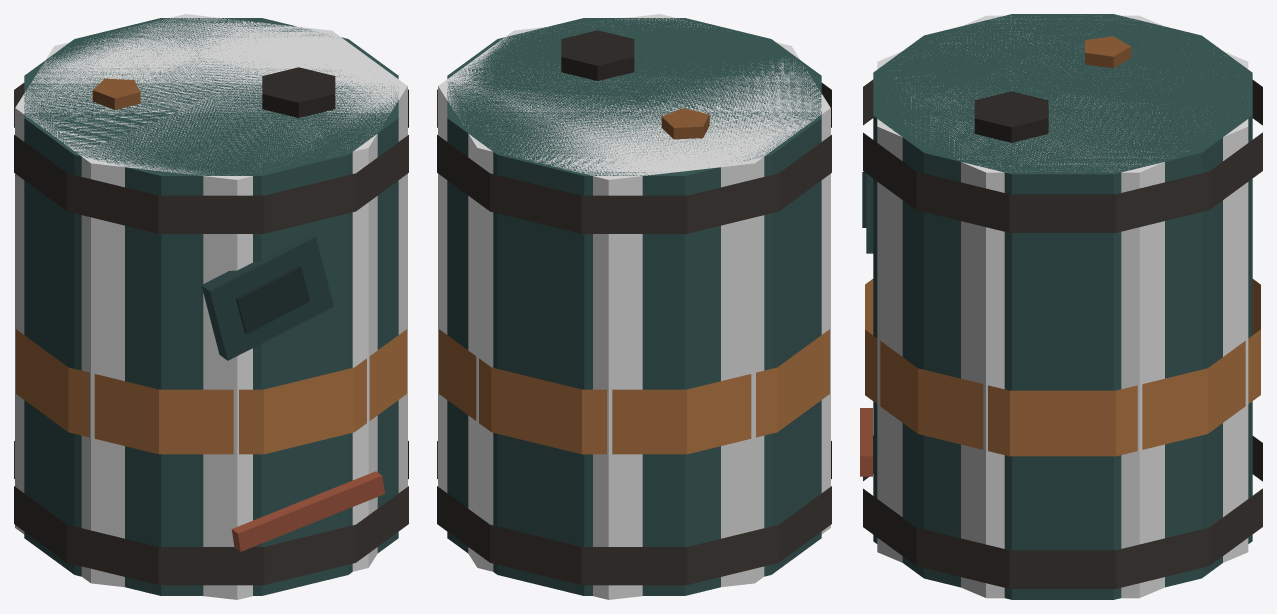
The model's file is camp_barrel.glb.
3 views of the same model, side by side, from view 1: azimuth 30°, elevation 25°; view 2: azimuth 150°, elevation 25°; view 3: azimuth 270°, elevation 25° (orthographic).
Visible parts, largest first — view 1: Body, camp_barrel-col-col; view 2: Body, camp_barrel-col-col; view 3: Body, camp_barrel-col-col.
Part boxes in pixels (bbox=[...]): Body: bbox=[14, 18, 408, 595]; camp_barrel-col-col: bbox=[15, 14, 407, 599]; Body: bbox=[437, 18, 831, 595]; camp_barrel-col-col: bbox=[438, 14, 830, 599]; Body: bbox=[860, 14, 1262, 599]; camp_barrel-col-col: bbox=[877, 15, 1248, 598].
Size of the model in its own units: 0.9369 by 1.14 by 0.9435.
